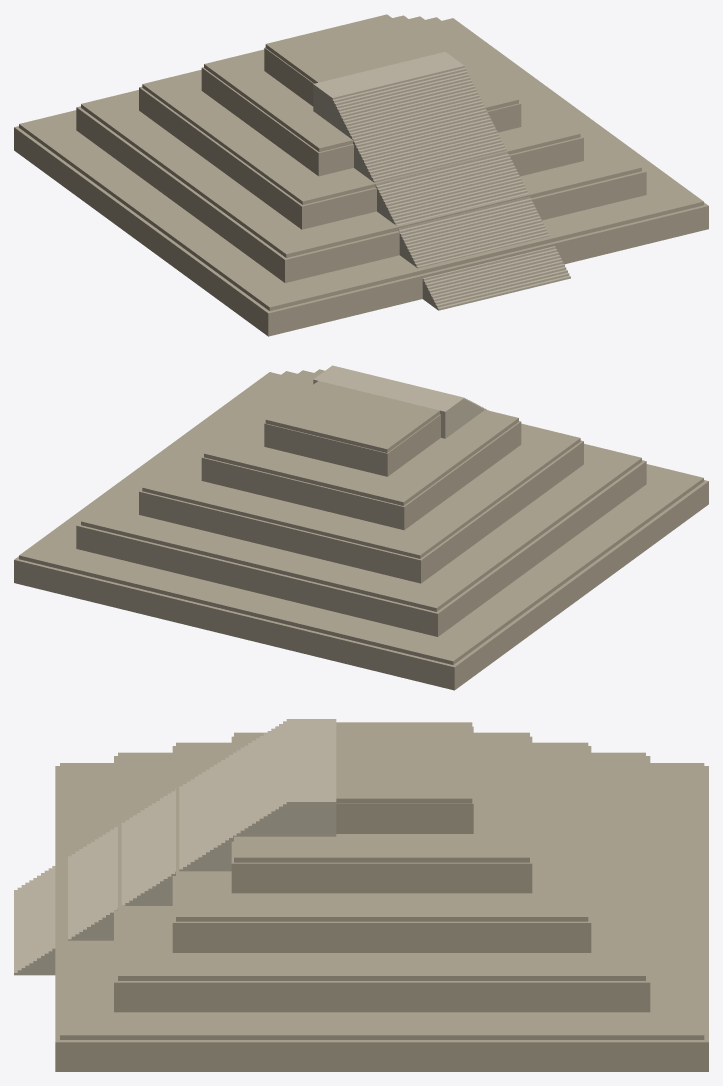
Rendered from meso-teo-sun-ruin.glb.
The picture shows the model from 3 angles, top to bottom: view 1: azimuth 30°, elevation 25°; view 2: azimuth 150°, elevation 25°; view 3: azimuth 270°, elevation 25°; orthographic projection. The views are drawn at different scales.
Parts seen in each view (by area): view 1: meso-body, meso-stair; view 2: meso-body, meso-stair; view 3: meso-body, meso-stair.
Part boxes in pixels (box(x1,y1,x2,y2)): meso-body: box(14, 14, 708, 336); meso-stair: box(313, 51, 570, 310); meso-body: box(14, 369, 708, 690); meso-stair: box(313, 365, 488, 438); meso-body: box(55, 722, 708, 1071); meso-stair: box(14, 719, 336, 975).
Size of the model in its own units: 222 by 65 by 236.
